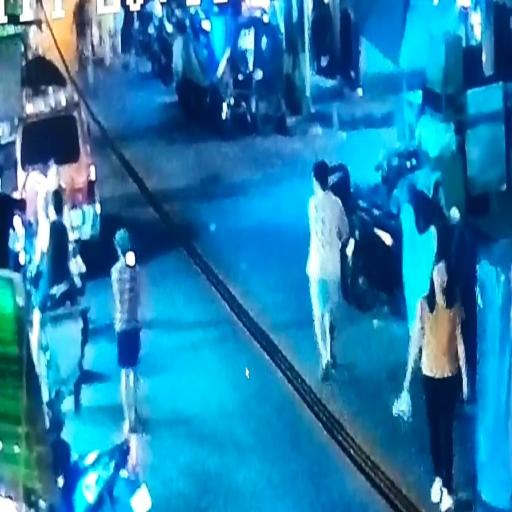Car: (12, 73, 110, 269)
Motor: (300, 126, 430, 320), (165, 0, 263, 132)
